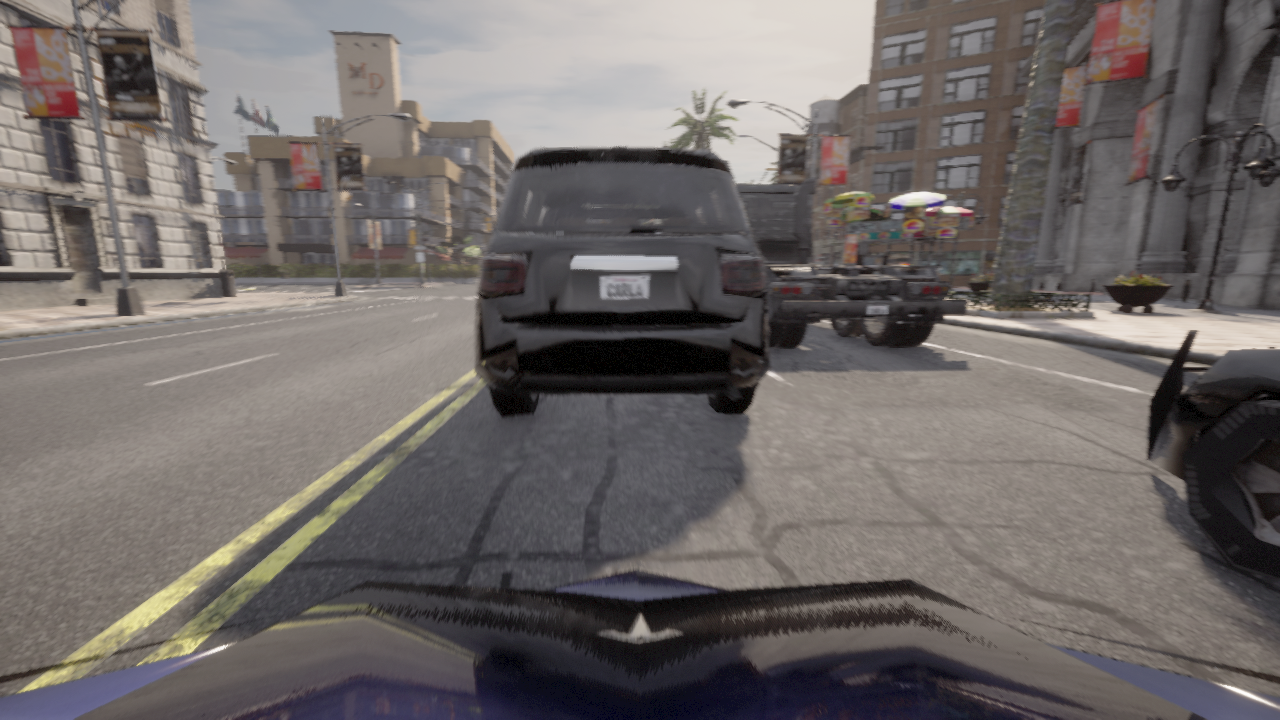cyclist: (0, 569, 1279, 719), (475, 147, 770, 417), (736, 179, 966, 347), (1145, 330, 1279, 579)
